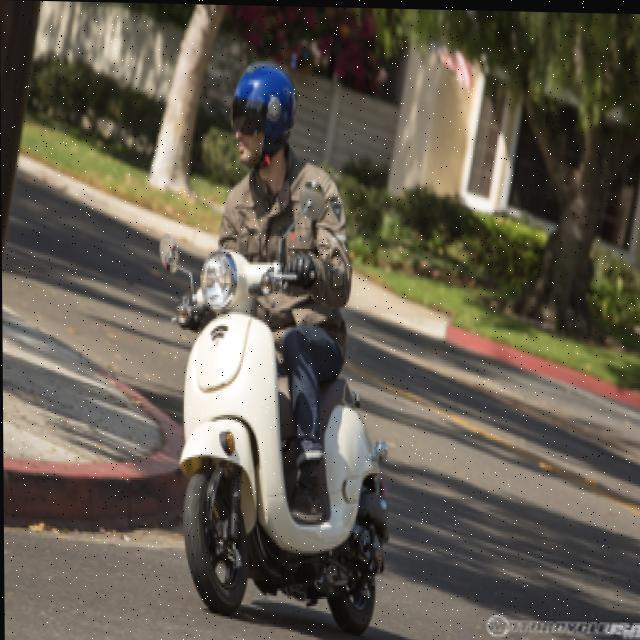Helmet: (221, 59, 303, 171)
